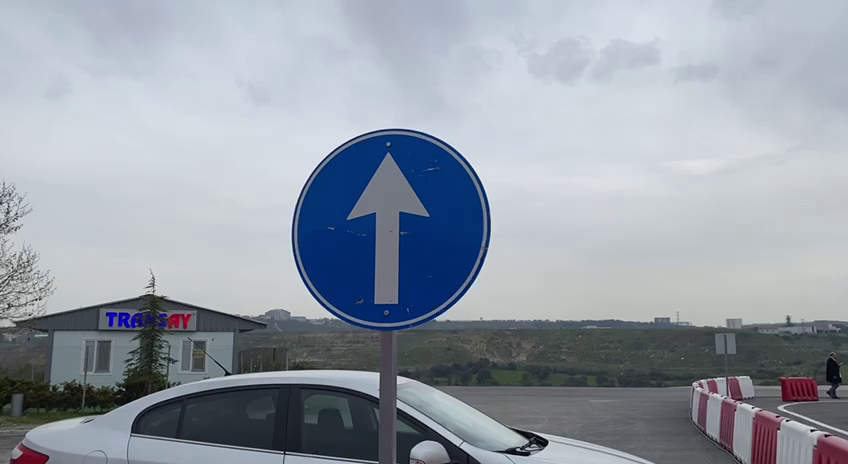forward: (287, 127, 495, 332)
